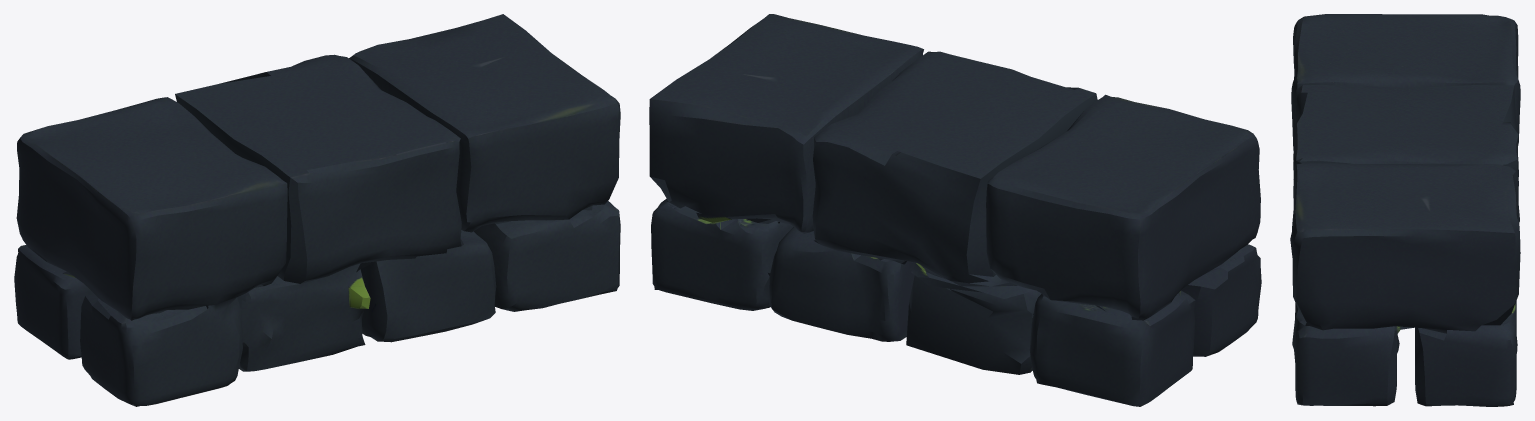
The model's file is brick_double_dungeon.glb.
3 renders of one model, left to right at view 1: azimuth 30°, elevation 25°; view 2: azimuth 150°, elevation 25°; view 3: azimuth 270°, elevation 25°, orthographic. The views are drawn at different scales.
Visible parts, largest first — view 1: Mesh_0; view 2: Mesh_0; view 3: Mesh_0.
Part boxes in pixels (bbox=[...]): Mesh_0: bbox=[14, 14, 620, 406]; Mesh_0: bbox=[649, 14, 1261, 406]; Mesh_0: bbox=[1290, 14, 1520, 406].
Bounding box in the file's own units: 1.9 × 0.7054 × 0.8302.
1 material, 1 textured.
